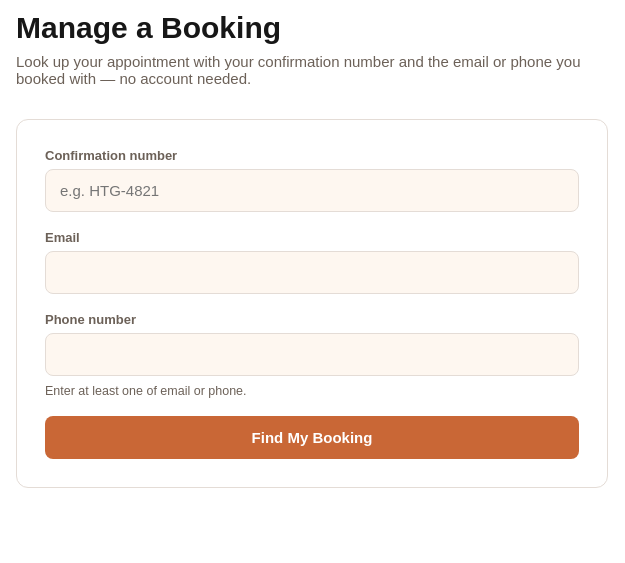
Test case: ManageBookingFlow — lookup -> result phase transition › shows BR-BOOK-5's generic not-found message verbatim on a failed lookup, staying on the lookup phase
The width and height of the screenshot is (625, 563).
Type "HTG-9999" into the field with test id "booking-lookup-reference-input".
click(312, 190); type("HTG-9999")  # box [45,169,579,212]
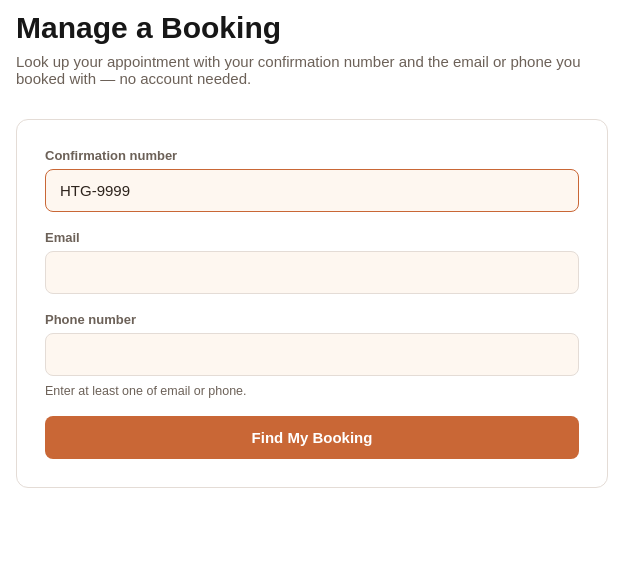
Type "555-000-0000" into the field with test id "booking-lookup-phone-input".
click(312, 354); type("555-000-0000")  # box [45,333,579,376]
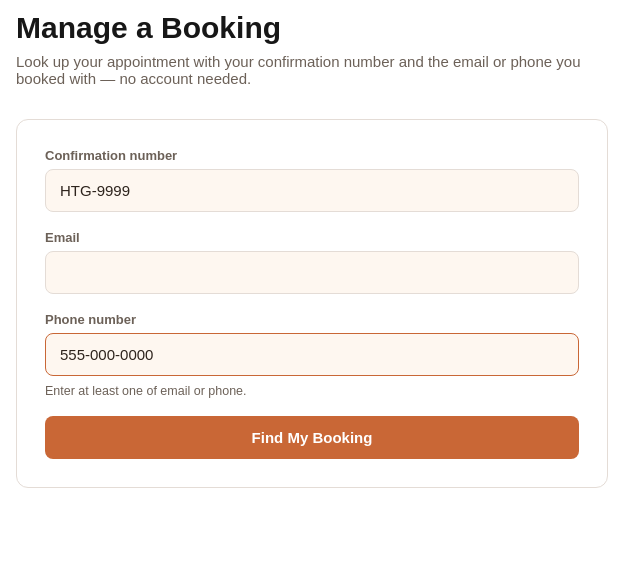
Click the button with test id "booking-lookup-submit-button".
click(312, 438)  # box [45,416,579,459]
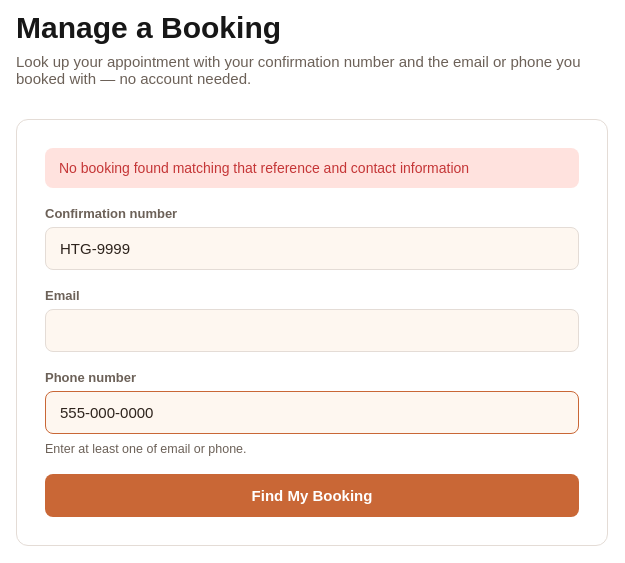
Expected: the button with test id "booking-lookup-submit-button" is shown, [45,474,579,517]
Now the text with test id "booking-lookup-error" reads "No booking found matching that reference and contact information", box [59,160,469,176]
